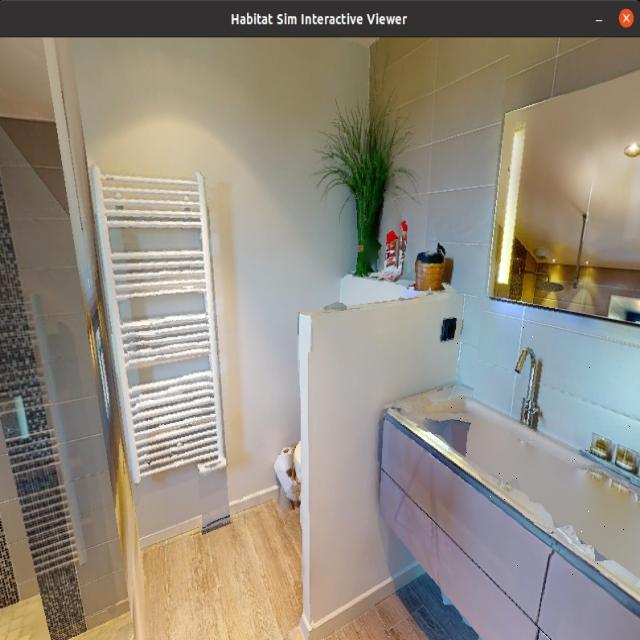sink: (427, 321, 635, 578)
